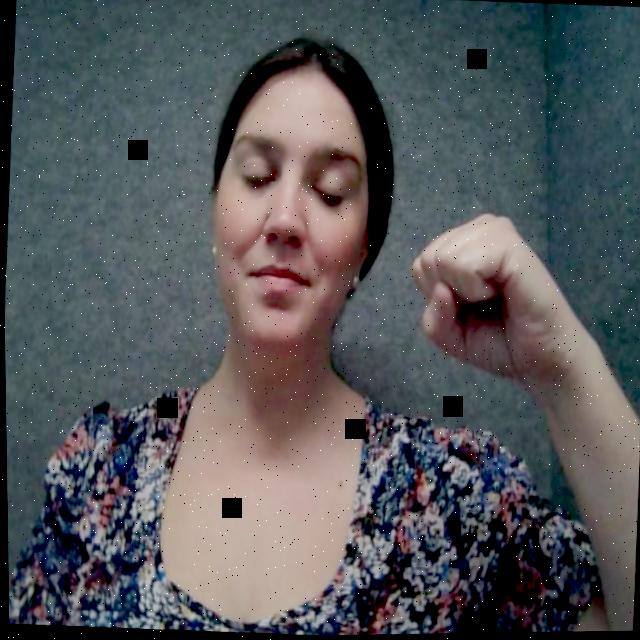Rock: (393, 203, 589, 408)
